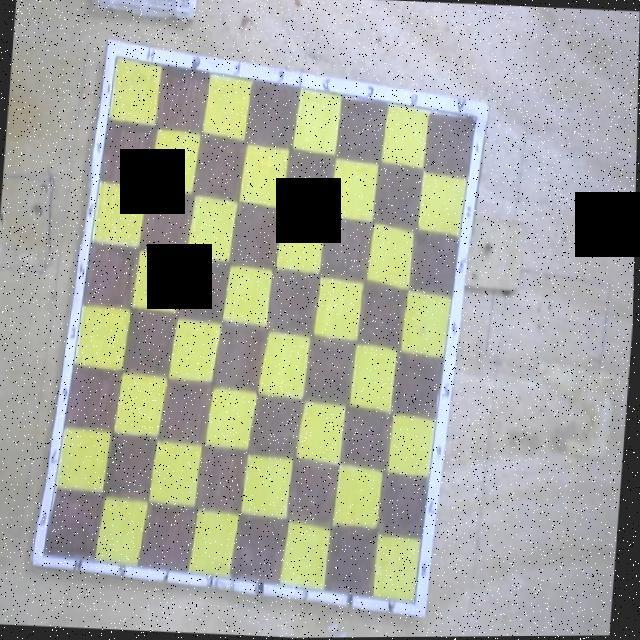chess-table-corners: (473, 116, 479, 122), (114, 56, 120, 61), (415, 600, 420, 606), (45, 552, 49, 558)
